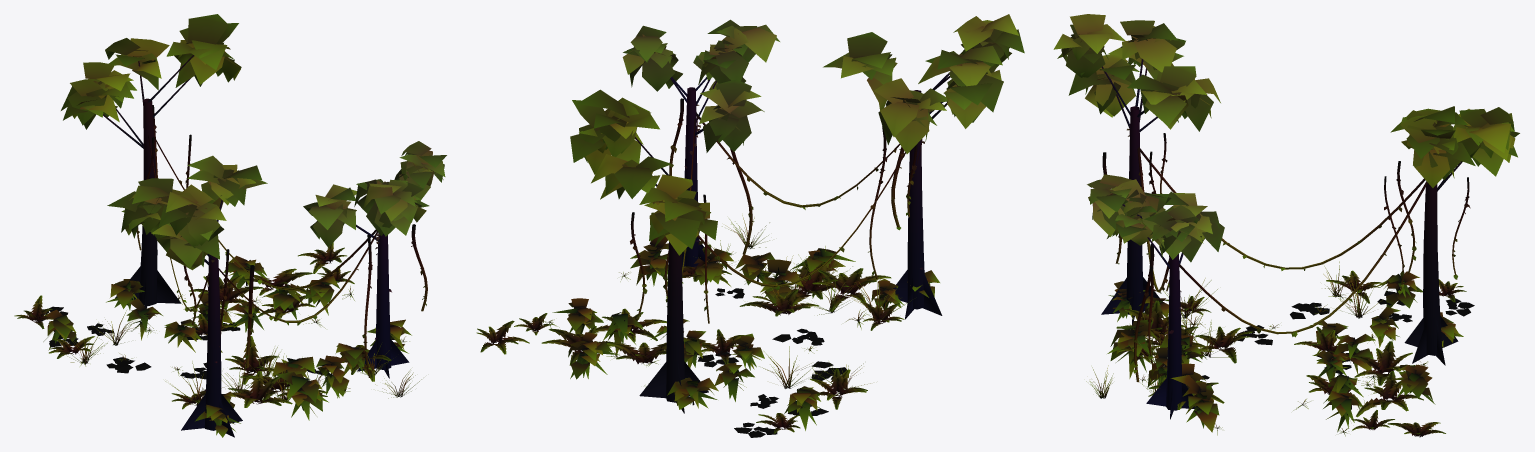
Rendered from patch_trail.glb.
The picture shows the model from 3 angles, left to right: view 1: azimuth 30°, elevation 25°; view 2: azimuth 150°, elevation 25°; view 3: azimuth 270°, elevation 25°; orthographic projection. The views are drawn at different scales.
Parts seen in each view (by area): view 1: patch_trail; view 2: patch_trail; view 3: patch_trail.
Part boxes in pixels (bbox=[...]): patch_trail: bbox=[14, 14, 446, 437]; patch_trail: bbox=[476, 14, 1024, 437]; patch_trail: bbox=[1053, 14, 1519, 437].
Size of the model in its own units: 16.99 by 12.93 by 18.97.
1 material, 1 textured.
